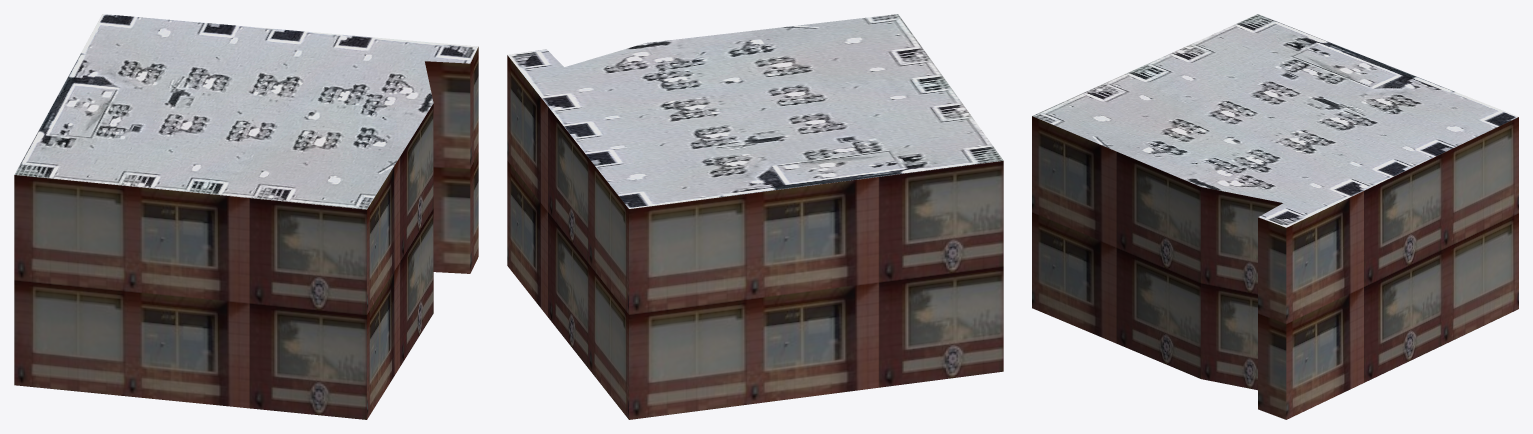
Rendered from ResTex__4944.fbx.
The picture shows the model from 3 angles, left to right: view 1: azimuth 30°, elevation 25°; view 2: azimuth 150°, elevation 25°; view 3: azimuth 270°, elevation 25°; orthographic projection. The views are drawn at different scales.
Parts seen in each view (by area): view 1: CityEngineMaterial_13_m, CityEngineMaterial_8_m; view 2: CityEngineMaterial_13_m, CityEngineMaterial_8_m; view 3: CityEngineMaterial_13_m, CityEngineMaterial_8_m.
Part boxes in pixels (x1,y1,x2,y2): CityEngineMaterial_13_m: [14, 47, 478, 419]; CityEngineMaterial_8_m: [14, 14, 478, 209]; CityEngineMaterial_13_m: [507, 55, 1003, 419]; CityEngineMaterial_8_m: [507, 14, 1003, 208]; CityEngineMaterial_13_m: [1032, 116, 1518, 419]; CityEngineMaterial_8_m: [1032, 14, 1518, 227].
Size of the model in its own units: 14.32 by 6 by 13.78.
Materials: 2 (2 with a texture image).
